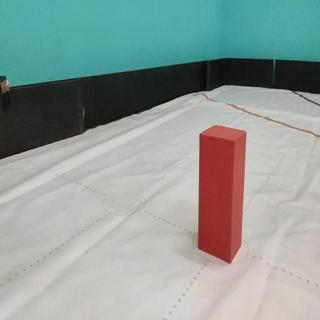redbox: (198, 123, 247, 265)
